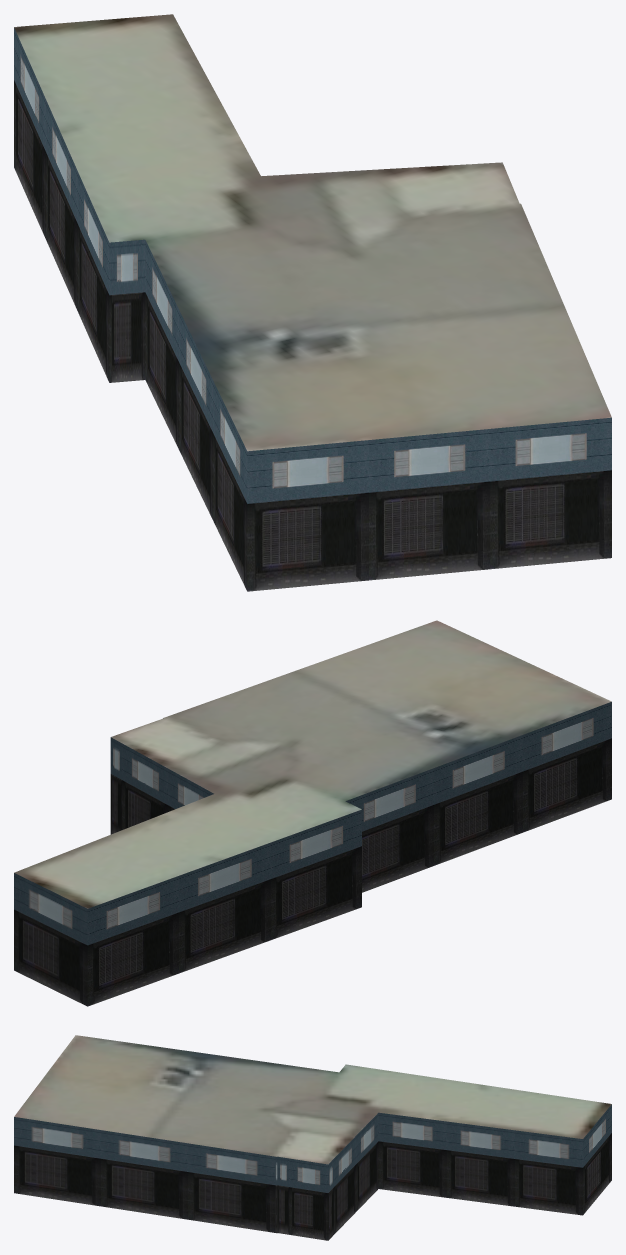
The model's file is T_1T92E4PKGP.dae.
3 views of the same model, one above another, from view 1: azimuth 30°, elevation 25°; view 2: azimuth 150°, elevation 25°; view 3: azimuth 270°, elevation 25° (orthographic). The views are drawn at different scales.
Parts seen in each view (by area): view 1: SketchUp (×9); view 2: SketchUp (×10); view 3: SketchUp (×13).
Boxes of the visible parts, x1,y1,x2,y2 form: SketchUp (×9): (14,14,611,591); SketchUp (×10): (14,620,611,1006); SketchUp (×13): (14,1035,611,1240).
Bounding box in the file's own units: 19.19 × 37.48 × 5.28.
3 materials, 3 textured.
